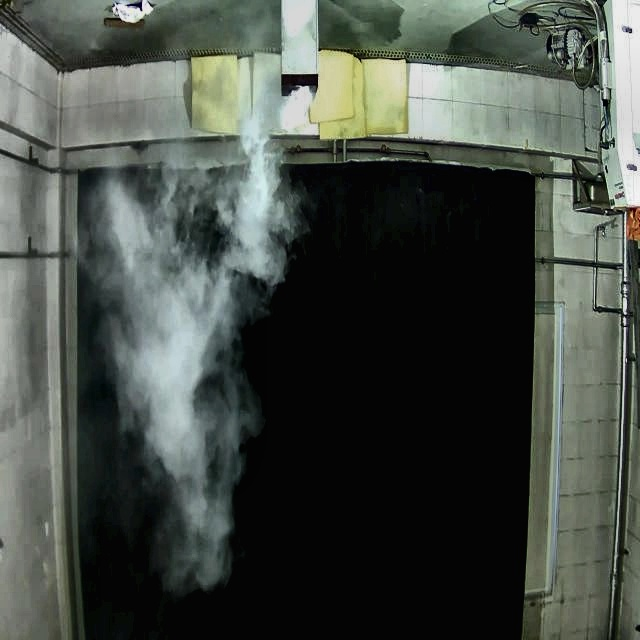smoke: (94, 159, 277, 566)
